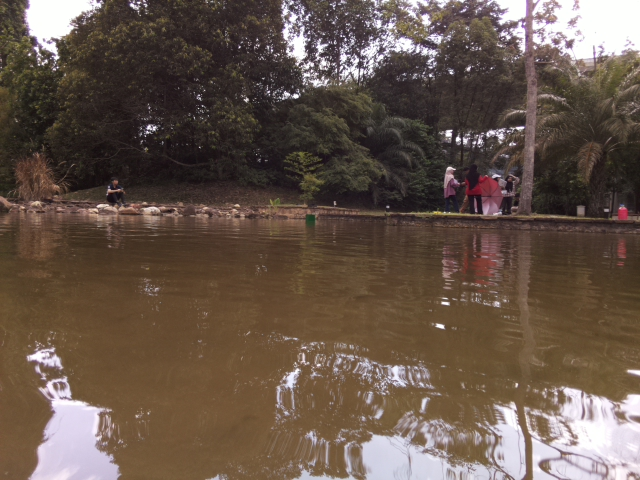obstacle: (304, 213, 316, 221)
